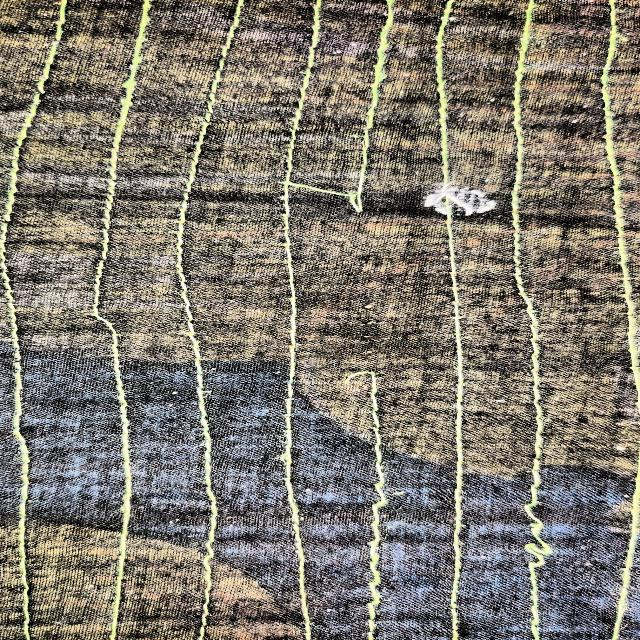Stitch: (292, 152, 527, 428), (475, 486, 604, 602)
